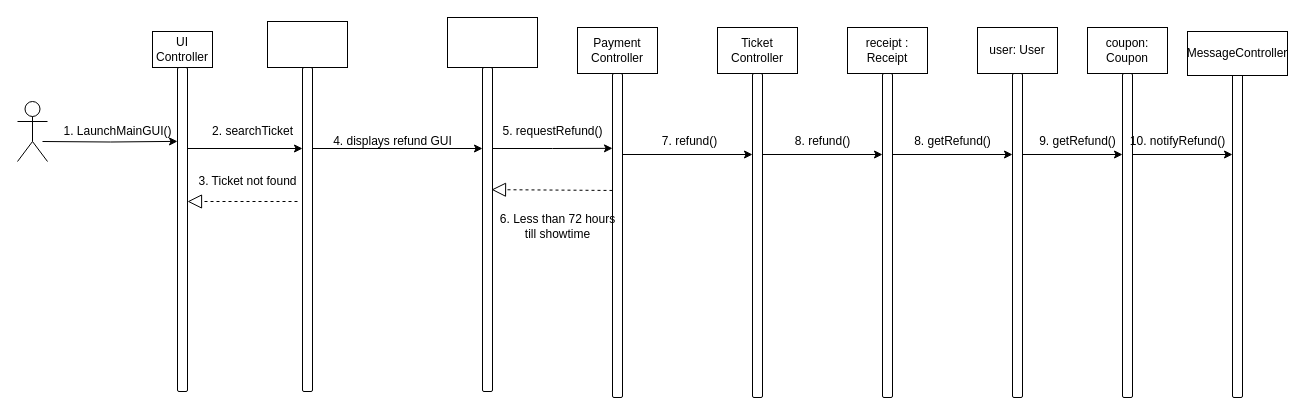
This 1305x415 diagram has some shape labels left out. The shapes that lost their labels are listed below. From the top down, each one's centre as x and y in pixels, then its label:
At (x=307, y=44): "MovieController".
At (x=492, y=42): "TicketController".
At (x=32, y=131): "User".
